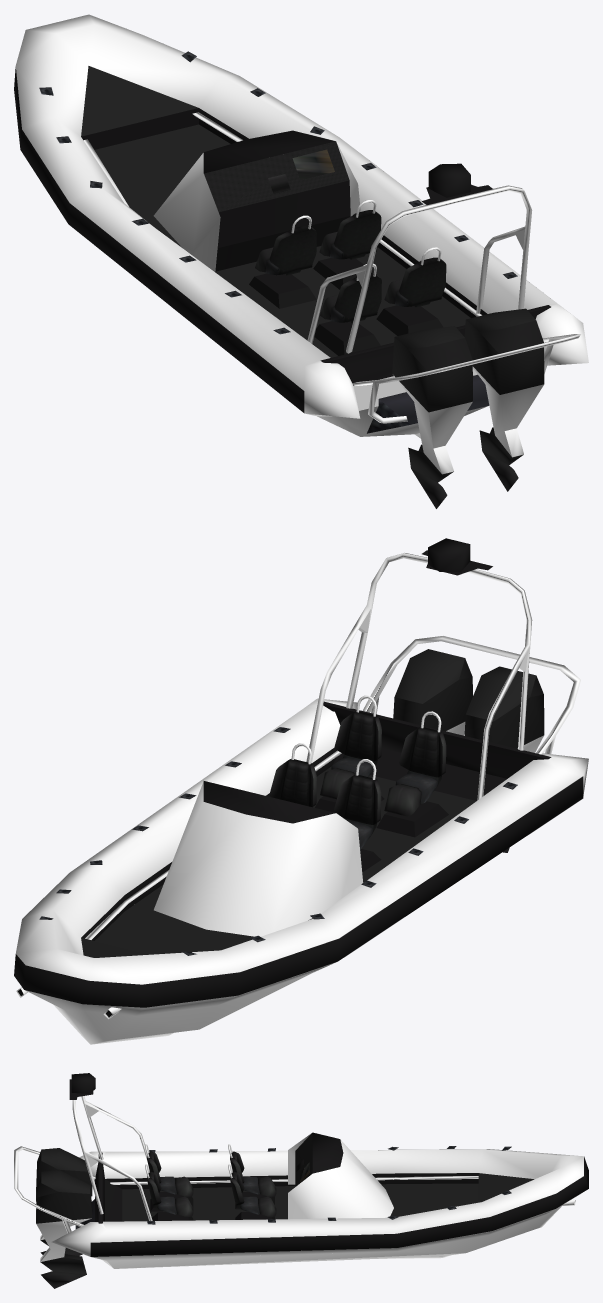
Rendered from dinghy.glb.
3 views of the same model, one above another, from view 1: azimuth 30°, elevation 25°; view 2: azimuth 150°, elevation 25°; view 3: azimuth 270°, elevation 25° (orthographic). The views are drawn at different scales.
Visible parts, largest first — view 1: chassis; view 2: chassis; view 3: chassis.
Part boxes in pixels (<box>): chassis: <box>14,14,588,508</box>; chassis: <box>14,538,588,1044</box>; chassis: <box>14,1073,588,1288</box>.
Bounding box in the file's own units: 2.81 × 3.01 × 7.86.
Materials: 8 (8 with a texture image).
